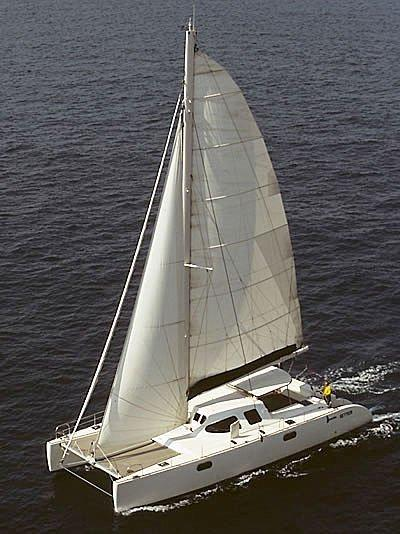Ship: (48, 10, 373, 510)
